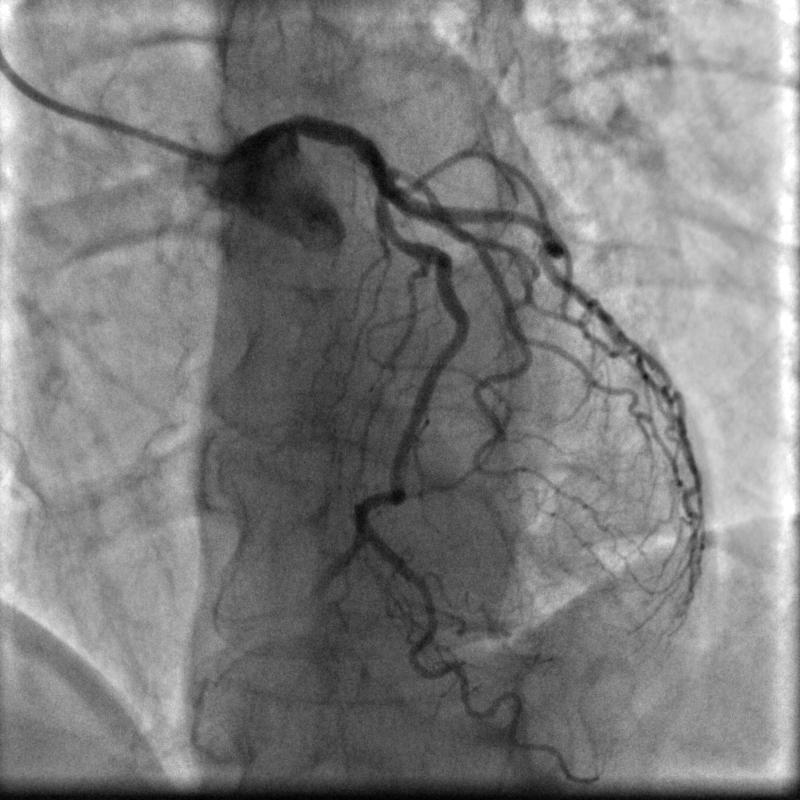Stenosis: (383, 223, 411, 251)
